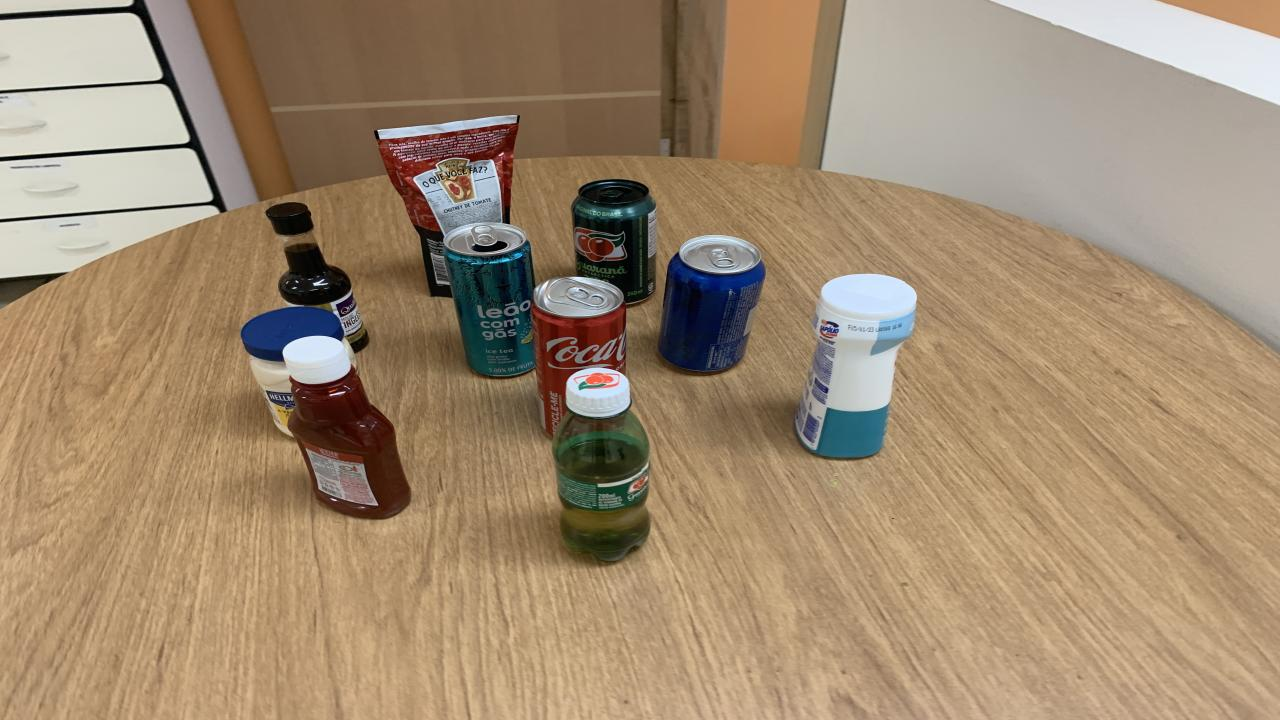Cleaner-Cleanup_Items: (795, 274, 918, 458)
Coke-Drinks: (530, 276, 625, 435)
English_Sauce-Pantry_Items: (265, 202, 368, 352)
Guarana-Drinks: (552, 368, 650, 561)
Guarana_Can-Drinks: (572, 178, 658, 306)
Ketchup-Pantry_Items: (282, 336, 410, 519)
Mayonnaise-Pantry_Items: (240, 306, 355, 435)
Tea-Drinks: (442, 223, 535, 377)
Tomato_Sauce-Pantry_Items: (375, 114, 520, 296)
Tonic-Drinks: (658, 234, 765, 371)
